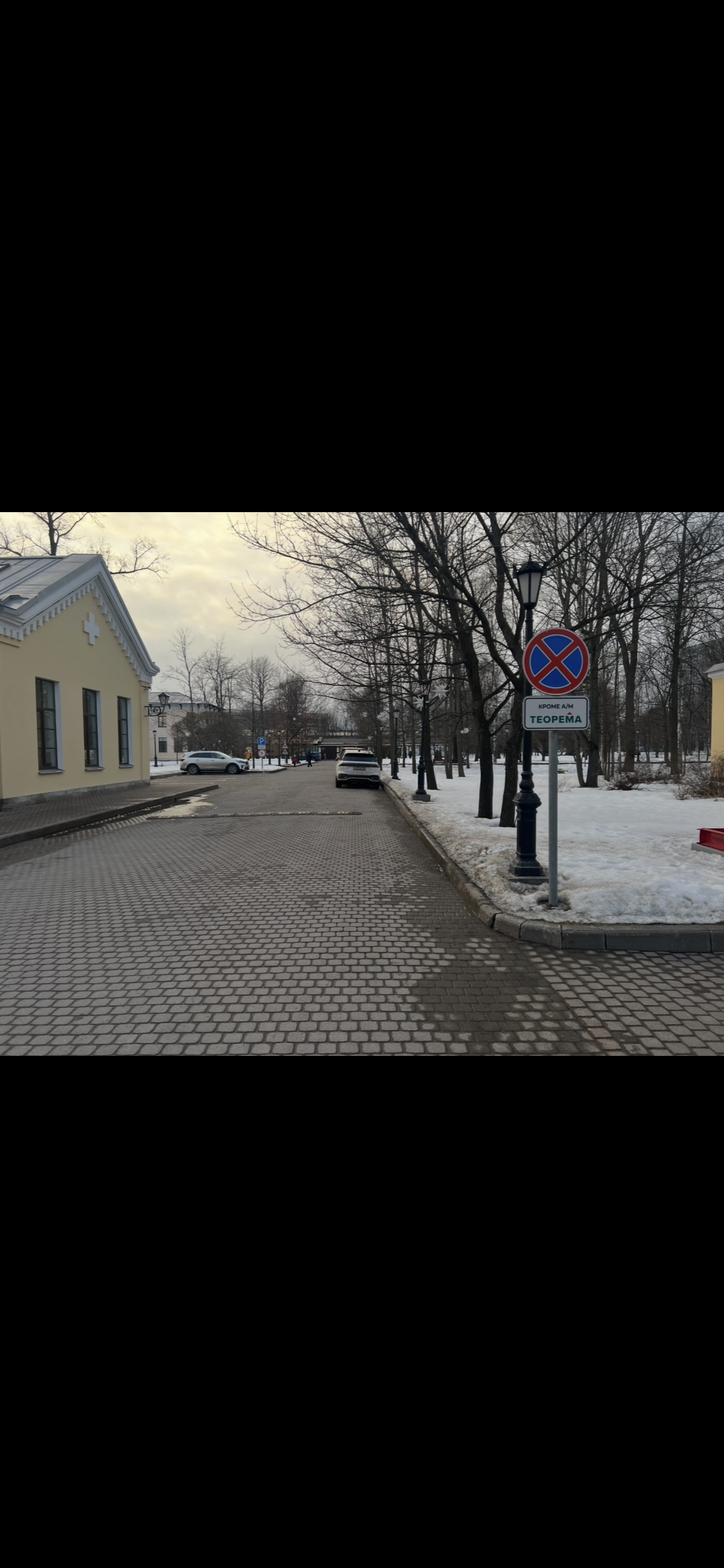road sign: (524, 697, 589, 730)
